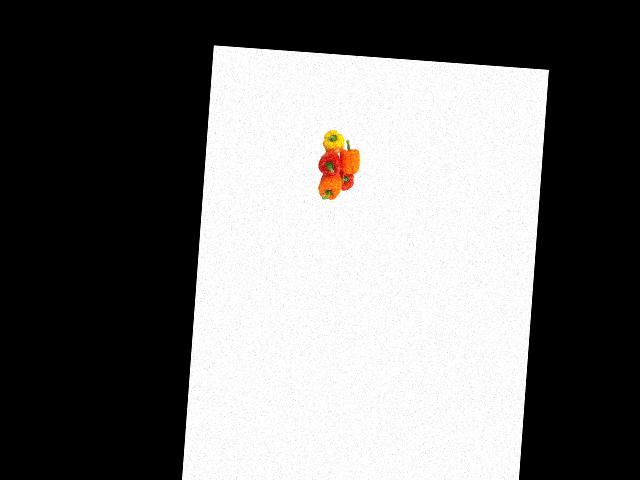bell_pepper: (314, 170, 344, 207)
